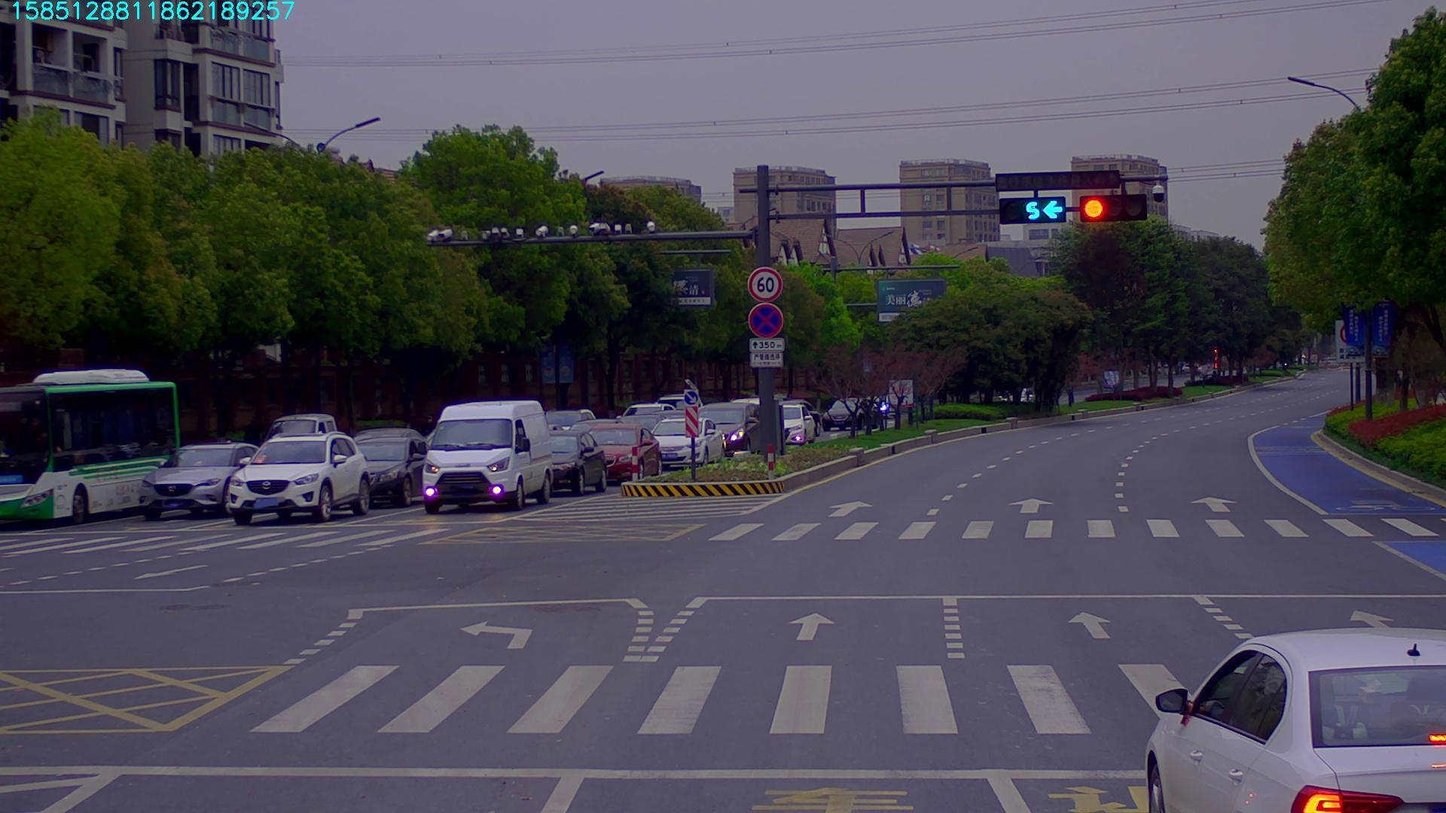green: (997, 195, 1060, 218)
red: (1079, 196, 1147, 224)
